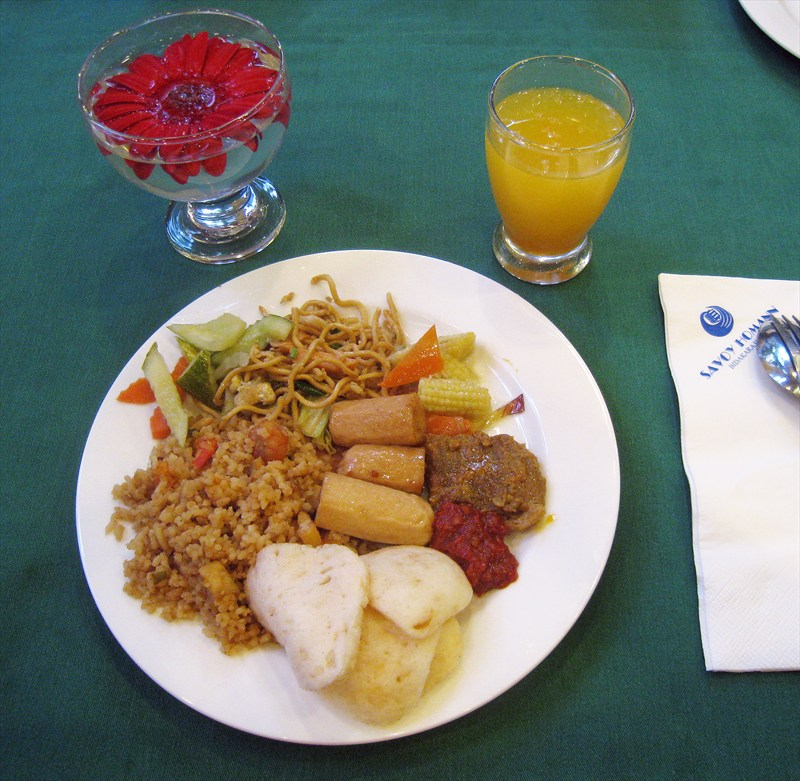Nasi Goreng: (97, 155, 758, 711)
